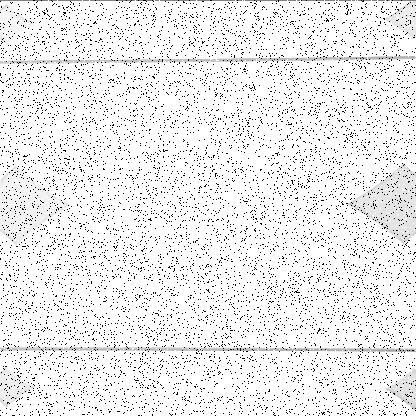2d: (0, 341, 56, 415), (0, 1, 63, 62)
